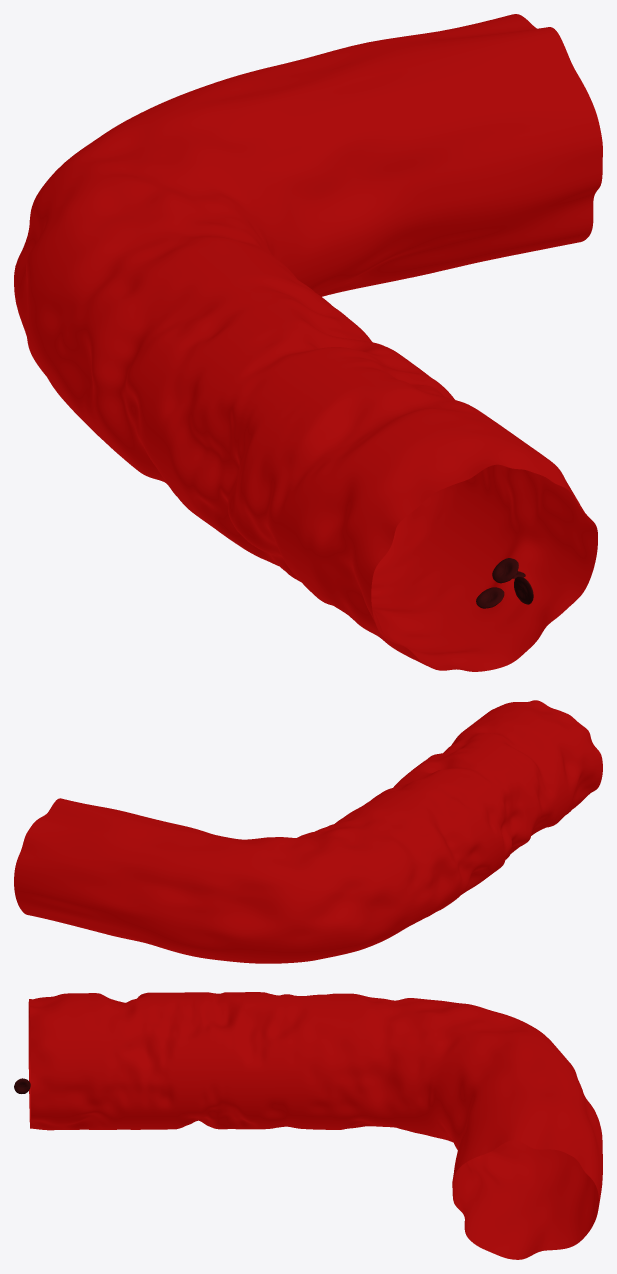
File: blood.glb
3 renders of one model, top to bottom at view 1: azimuth 30°, elevation 25°; view 2: azimuth 150°, elevation 25°; view 3: azimuth 270°, elevation 25°, orthographic. The views are drawn at different scales.
Parts seen in each view (by area): view 1: NurbsPath.001; view 2: NurbsPath.001; view 3: NurbsPath.001.
Part boxes in pixels (x1,y1,x2,y2): NurbsPath.001: (14, 14, 602, 671); NurbsPath.001: (14, 700, 602, 963); NurbsPath.001: (14, 992, 602, 1259).
Size of the model in its own units: 6.8 by 2.23 by 9.78.
